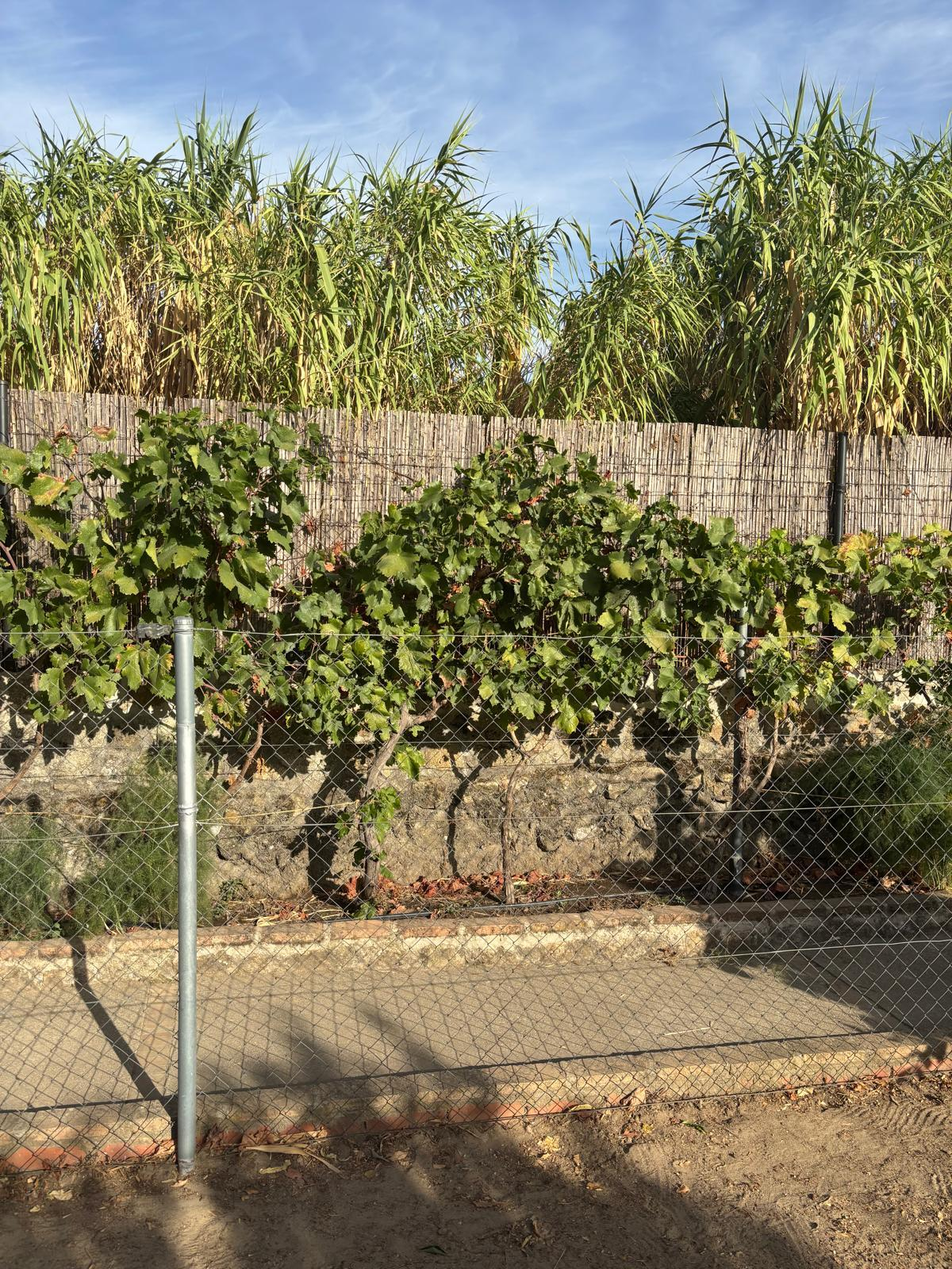vid: (58, 413, 937, 794)
